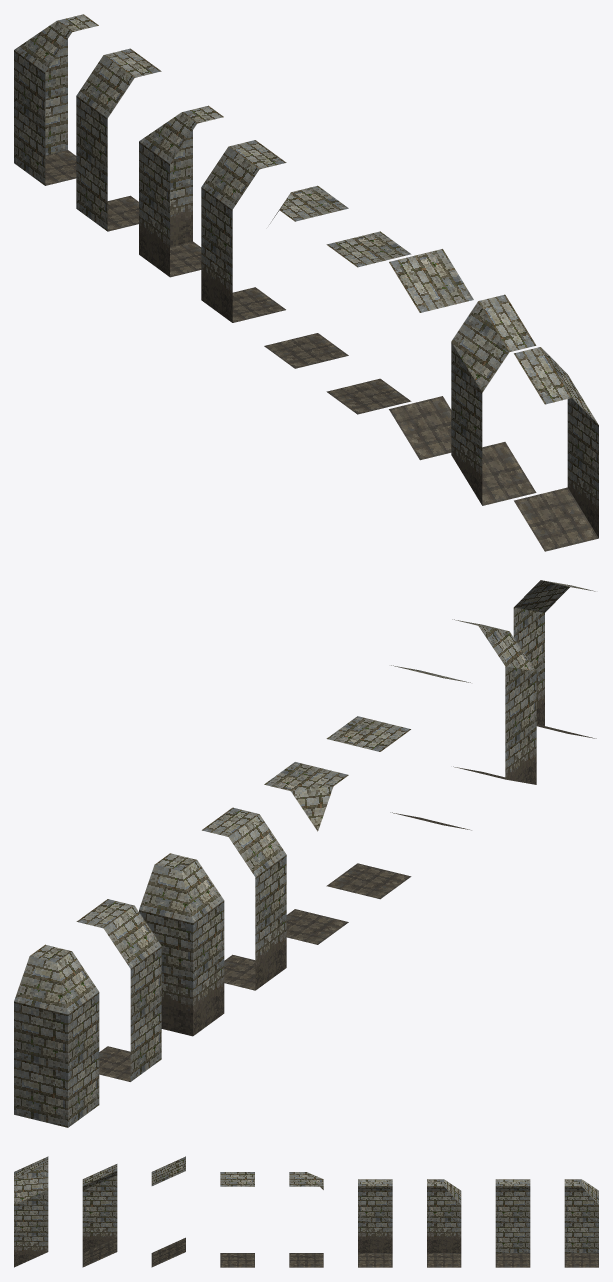
File: sewer.glb
The picture shows the model from 3 angles, top to bottom: view 1: azimuth 30°, elevation 25°; view 2: azimuth 150°, elevation 25°; view 3: azimuth 270°, elevation 25°; orthographic projection. The views are drawn at different scales.
Visible parts, largest first — view 1: leftupwall-dirty-col, rightupwall-dirty-col, edgein-dirty-col, edgein-col, wall-dirty-col, wall-col, uppath-col, path-col, edgeout-col; view 2: edgein-col, edgein-dirty-col, wall-dirty-col, wall-col, leftupwall-dirty-col, edgeout-col, path-col, rightupwall-dirty-col; view 3: rightupwall-dirty-col, wall-col, leftupwall-dirty-col, wall-dirty-col, edgein-col, edgein-dirty-col, uppath-col, path-col, edgeout-col.
Part boxes in pixels (<box>): leftupwall-dirty-col: <box>451,294,536,505</box>; rightupwall-dirty-col: <box>514,347,598,551</box>; edgein-dirty-col: <box>139,105,223,277</box>; edgein-col: <box>14,14,98,185</box>; wall-dirty-col: <box>201,140,286,322</box>; wall-col: <box>76,48,161,231</box>; uppath-col: <box>389,249,473,460</box>; path-col: <box>326,231,411,414</box>; edgeout-col: <box>264,185,348,368</box>; edgein-col: <box>14,944,99,1127</box>; edgein-dirty-col: <box>139,853,224,1036</box>; wall-dirty-col: <box>202,807,286,990</box>; wall-col: <box>76,899,161,1081</box>; leftupwall-dirty-col: <box>452,619,536,784</box>; edgeout-col: <box>264,762,348,944</box>; path-col: <box>326,716,411,899</box>; rightupwall-dirty-col: <box>513,580,596,738</box>; rightupwall-dirty-col: <box>14,1156,48,1267</box>; wall-col: <box>495,1179,530,1267</box>; leftupwall-dirty-col: <box>82,1164,117,1267</box>; wall-dirty-col: <box>358,1179,392,1267</box>; edgein-col: <box>564,1179,598,1267</box>; edgein-dirty-col: <box>427,1179,461,1267</box>; uppath-col: <box>151,1156,185,1267</box>; path-col: <box>220,1172,254,1267</box>; edgeout-col: <box>289,1172,323,1267</box>.
Size of the model in its own units: 1 by 3.1 by 17.
2 materials, 2 textured.
